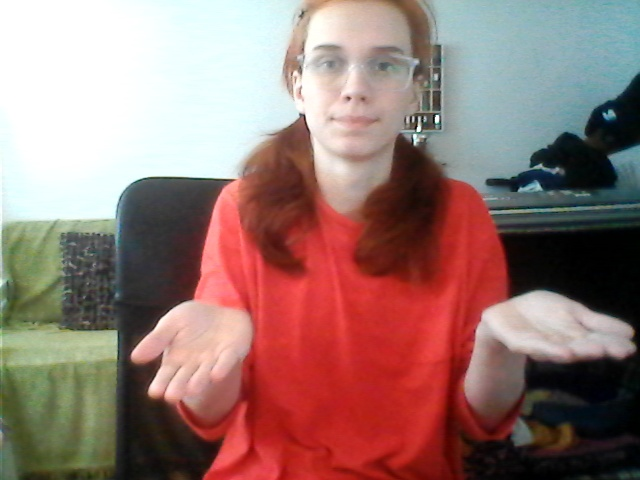alebo: (124, 284, 640, 404)
